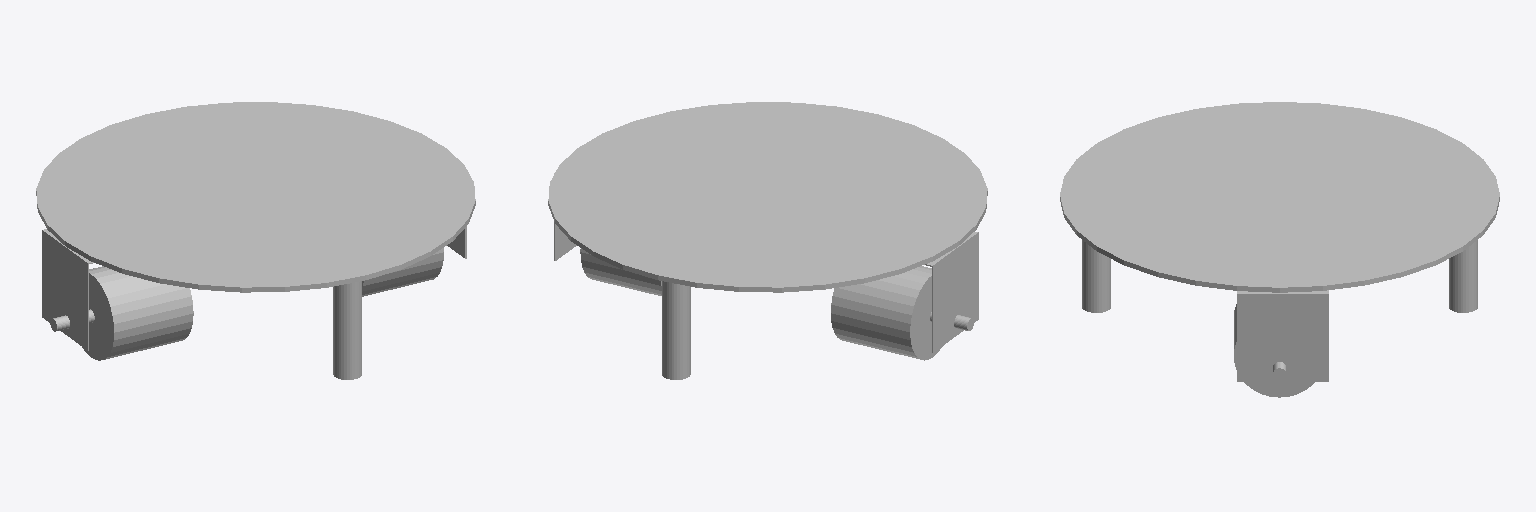
Rendered from Chassis_Rond.obj.
The picture shows the model from 3 angles: view 1: azimuth 30°, elevation 25°; view 2: azimuth 150°, elevation 25°; view 3: azimuth 270°, elevation 25°; orthographic projection.
Parts seen in each view (by area): view 1: Chassis_Rond_Cylinder.001; view 2: Chassis_Rond_Cylinder.001; view 3: Chassis_Rond_Cylinder.001.
Boxes of the visible parts, <box> form: Chassis_Rond_Cylinder.001: <box>36,102,475,379</box>; Chassis_Rond_Cylinder.001: <box>548,102,987,379</box>; Chassis_Rond_Cylinder.001: <box>1060,102,1499,397</box>.
Size of the model in its own units: 25.49 by 7.36 by 24.